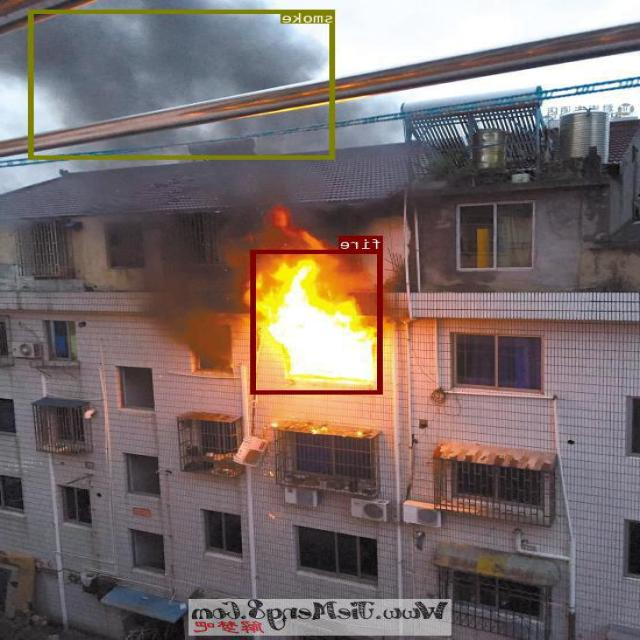fire: (252, 250, 383, 393)
smoke: (30, 9, 335, 158)
